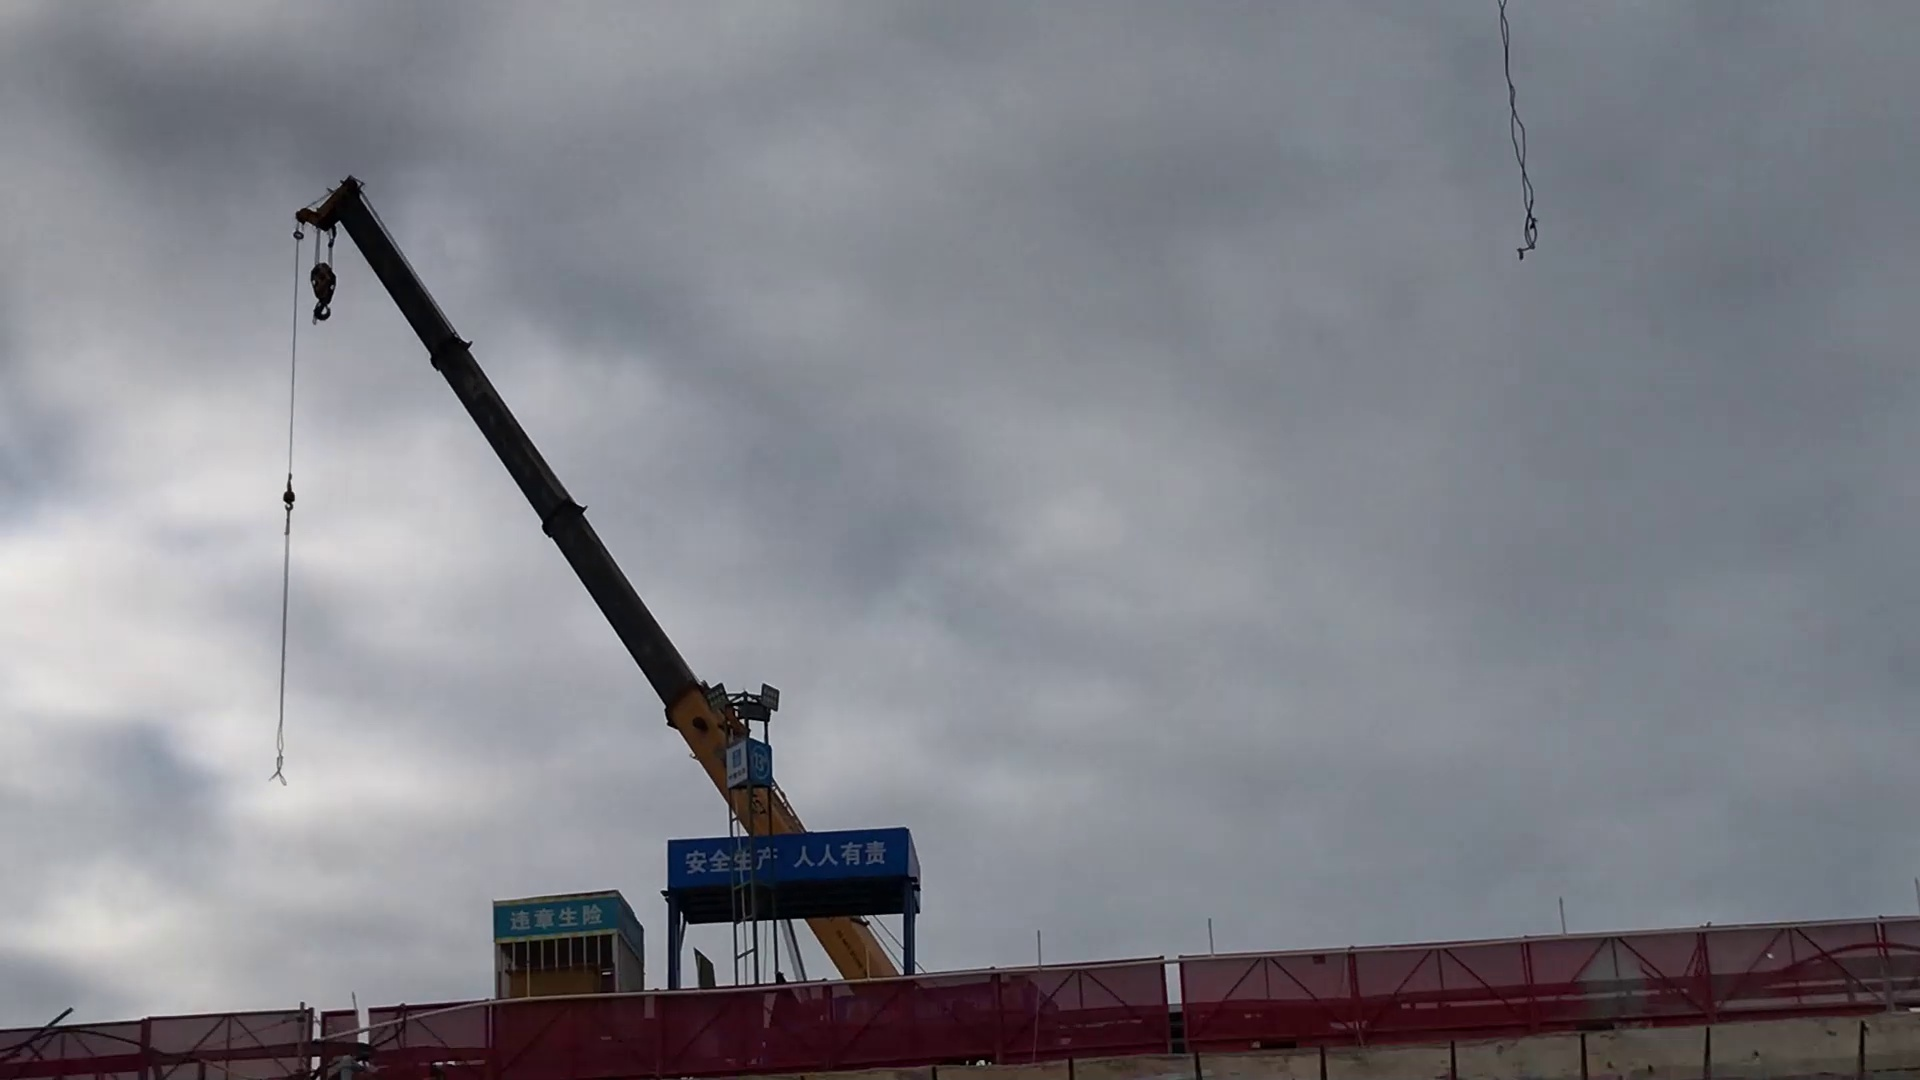slogan: (670, 843, 901, 887), (483, 901, 626, 935)
